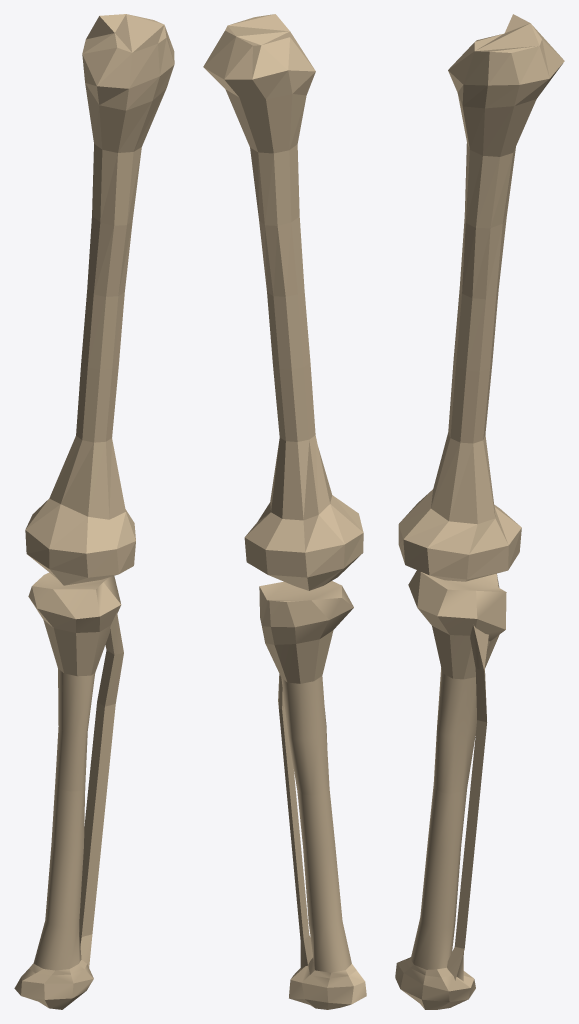
3 renders of one model, left to right at view 1: azimuth 30°, elevation 25°; view 2: azimuth 150°, elevation 25°; view 3: azimuth 330°, elevation 25°, orthographic. The views are drawn at different scales.
Parts seen in each view (by area): view 1: Os I; view 2: Os I; view 3: Os I.
Boxes of the visible parts, bbox=[...] form: Os I: bbox=[14, 14, 174, 1009]; Os I: bbox=[203, 14, 366, 1009]; Os I: bbox=[395, 14, 564, 1009].
Size of the model in its own units: 10.47 by 63.52 by 7.32.
